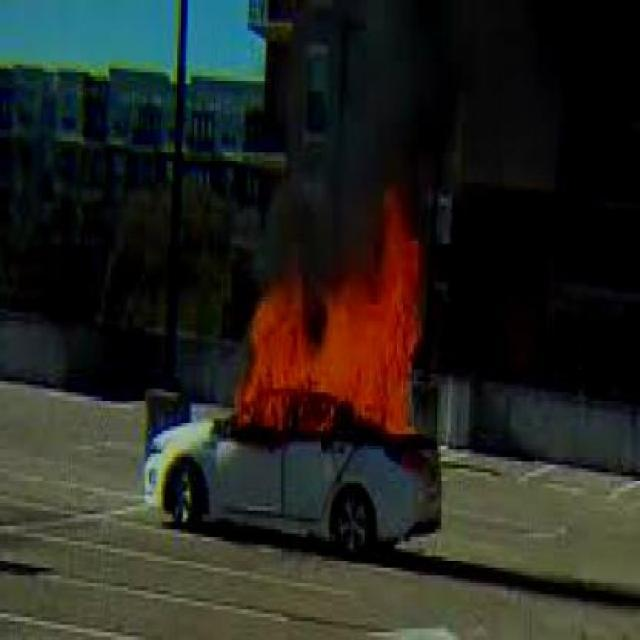Fire: (214, 194, 436, 454)
Smoke: (272, 0, 638, 189)
